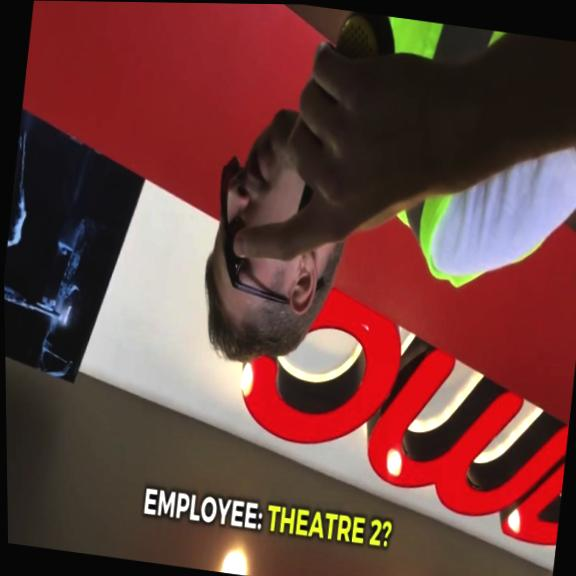safety_vest: (354, 15, 576, 303)
